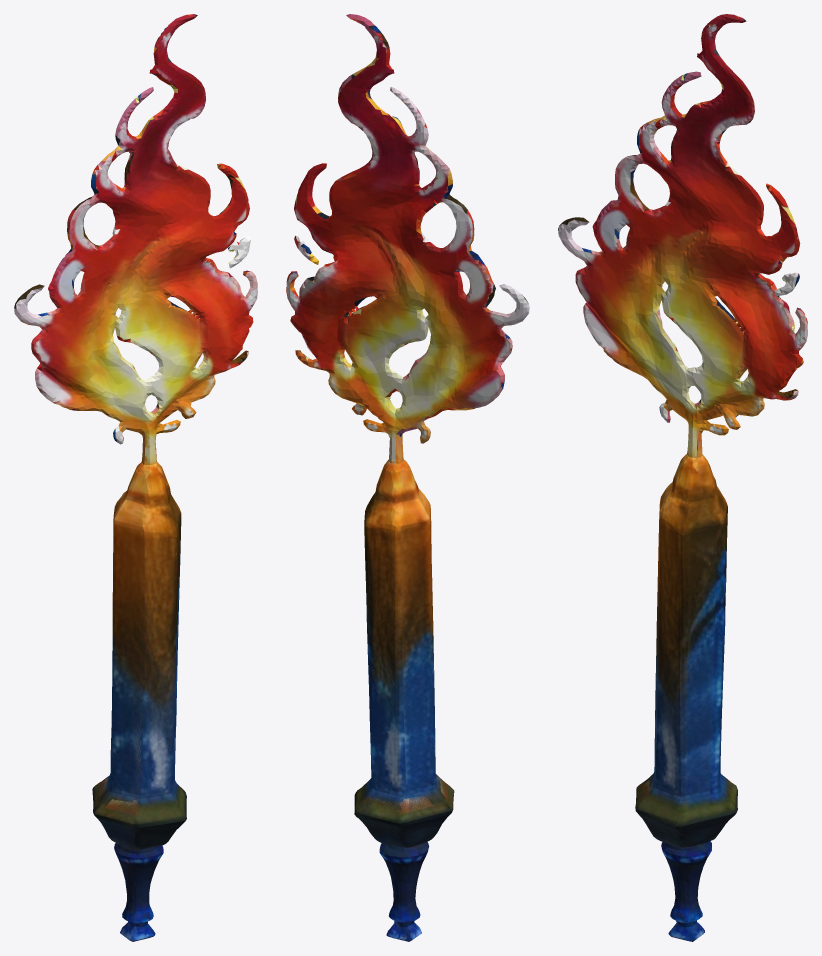
The model's file is torch_stand.glb.
3 views of the same model, side by side, from view 1: azimuth 30°, elevation 25°; view 2: azimuth 150°, elevation 25°; view 3: azimuth 330°, elevation 25° (orthographic). The views are drawn at different scales.
Visible parts, largest first — view 1: tmpi_whh77_.ply; view 2: tmpi_whh77_.ply; view 3: tmpi_whh77_.ply.
Boxes of the visible parts, x1=… form: tmpi_whh77_.ply: x1=14, y1=14, x2=257, y2=941; tmpi_whh77_.ply: x1=286, y1=14, x2=529, y2=941; tmpi_whh77_.ply: x1=558, y1=14, x2=807, y2=941.
Bounding box in the file's own units: 0.5585 × 1.99 × 0.2125.
1 material, 1 textured.
